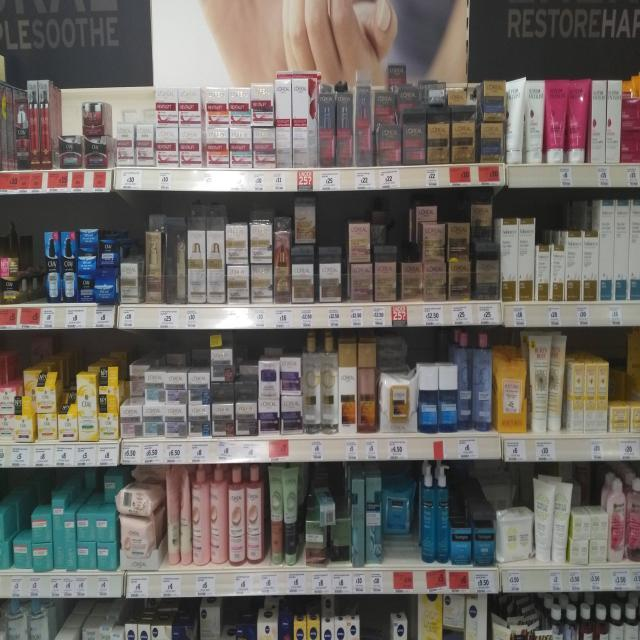Imprecise: (42, 459, 116, 569), (115, 458, 168, 570), (286, 204, 342, 302), (374, 327, 417, 438), (378, 474, 421, 568), (370, 202, 408, 298), (464, 200, 502, 296), (607, 332, 640, 439), (111, 355, 147, 441)
